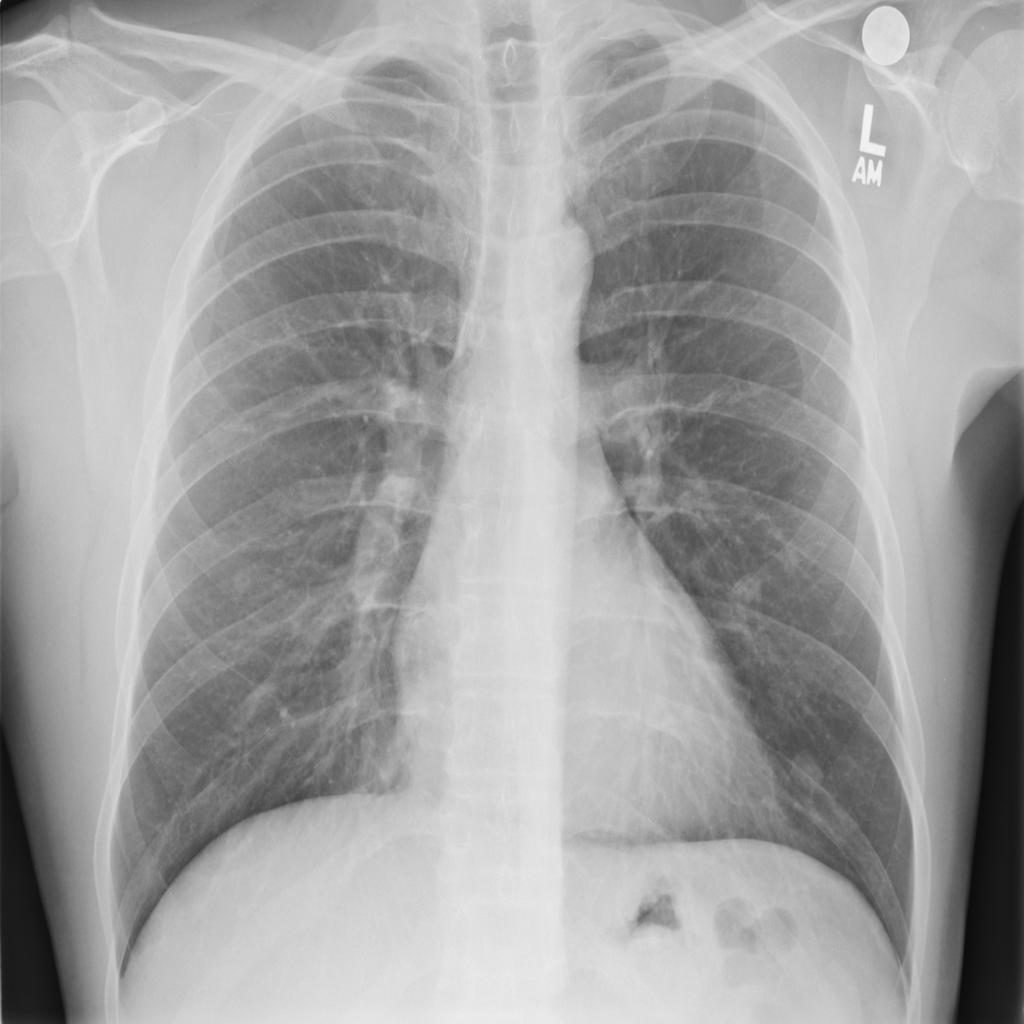nodule: (783, 743, 834, 798), (764, 525, 812, 580), (217, 552, 267, 604), (721, 561, 768, 616)
